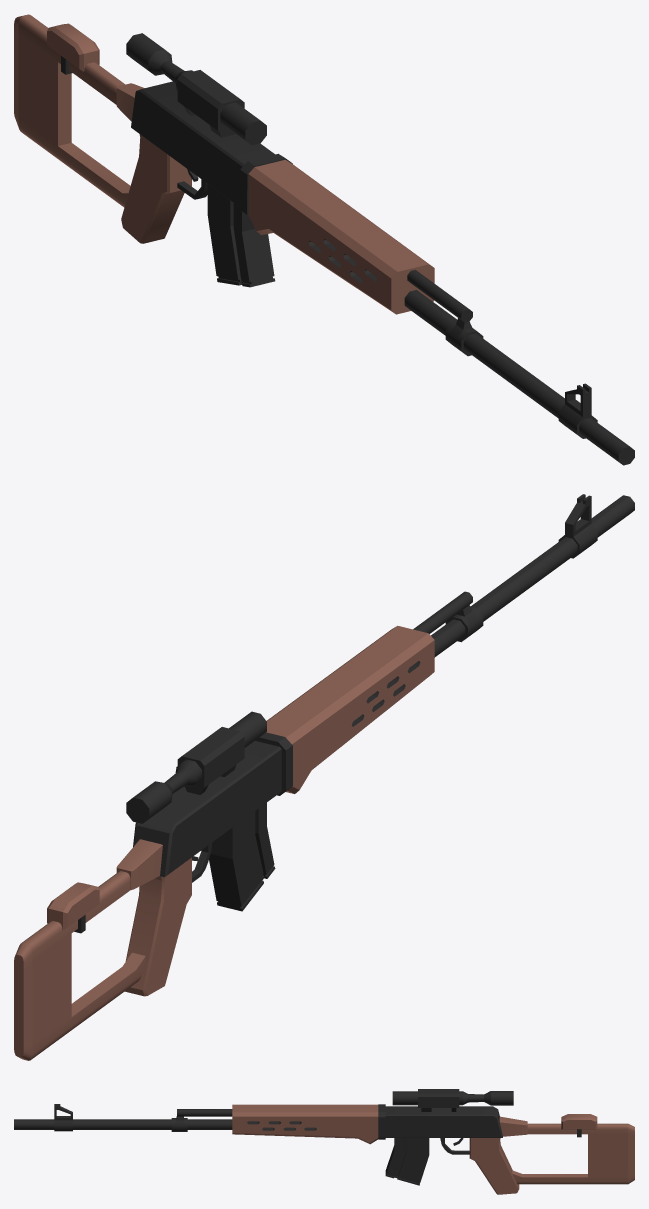
The picture shows the model from 3 angles, top to bottom: view 1: azimuth 30°, elevation 25°; view 2: azimuth 150°, elevation 25°; view 3: azimuth 270°, elevation 25°; orthographic projection. The views are drawn at different scales.
Parts seen in each view (by area): view 1: Dragunov SVD Body, Dragunov SVD Magazine; view 2: Dragunov SVD Body, Dragunov SVD Magazine; view 3: Dragunov SVD Body, Dragunov SVD Magazine.
Part boxes in pixels (bbox=[...]): Dragunov SVD Body: bbox=[14, 14, 634, 465]; Dragunov SVD Magazine: bbox=[207, 184, 275, 287]; Dragunov SVD Body: bbox=[14, 494, 634, 1060]; Dragunov SVD Magazine: bbox=[209, 802, 275, 911]; Dragunov SVD Body: bbox=[14, 1089, 634, 1194]; Dragunov SVD Magazine: bbox=[385, 1138, 429, 1185].
Size of the model in its own units: 0.1346 by 0.5508 by 3.09.
